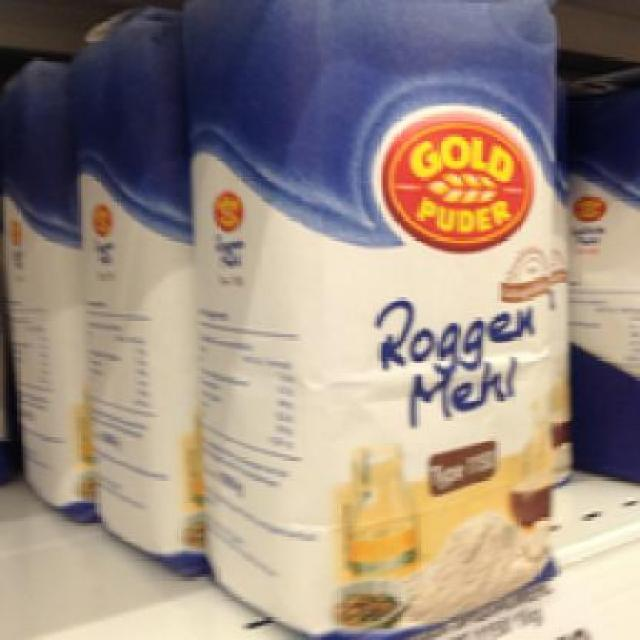Flour: (180, 0, 566, 635)
